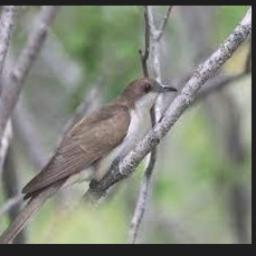Cuckoo: (0, 78, 179, 244)
